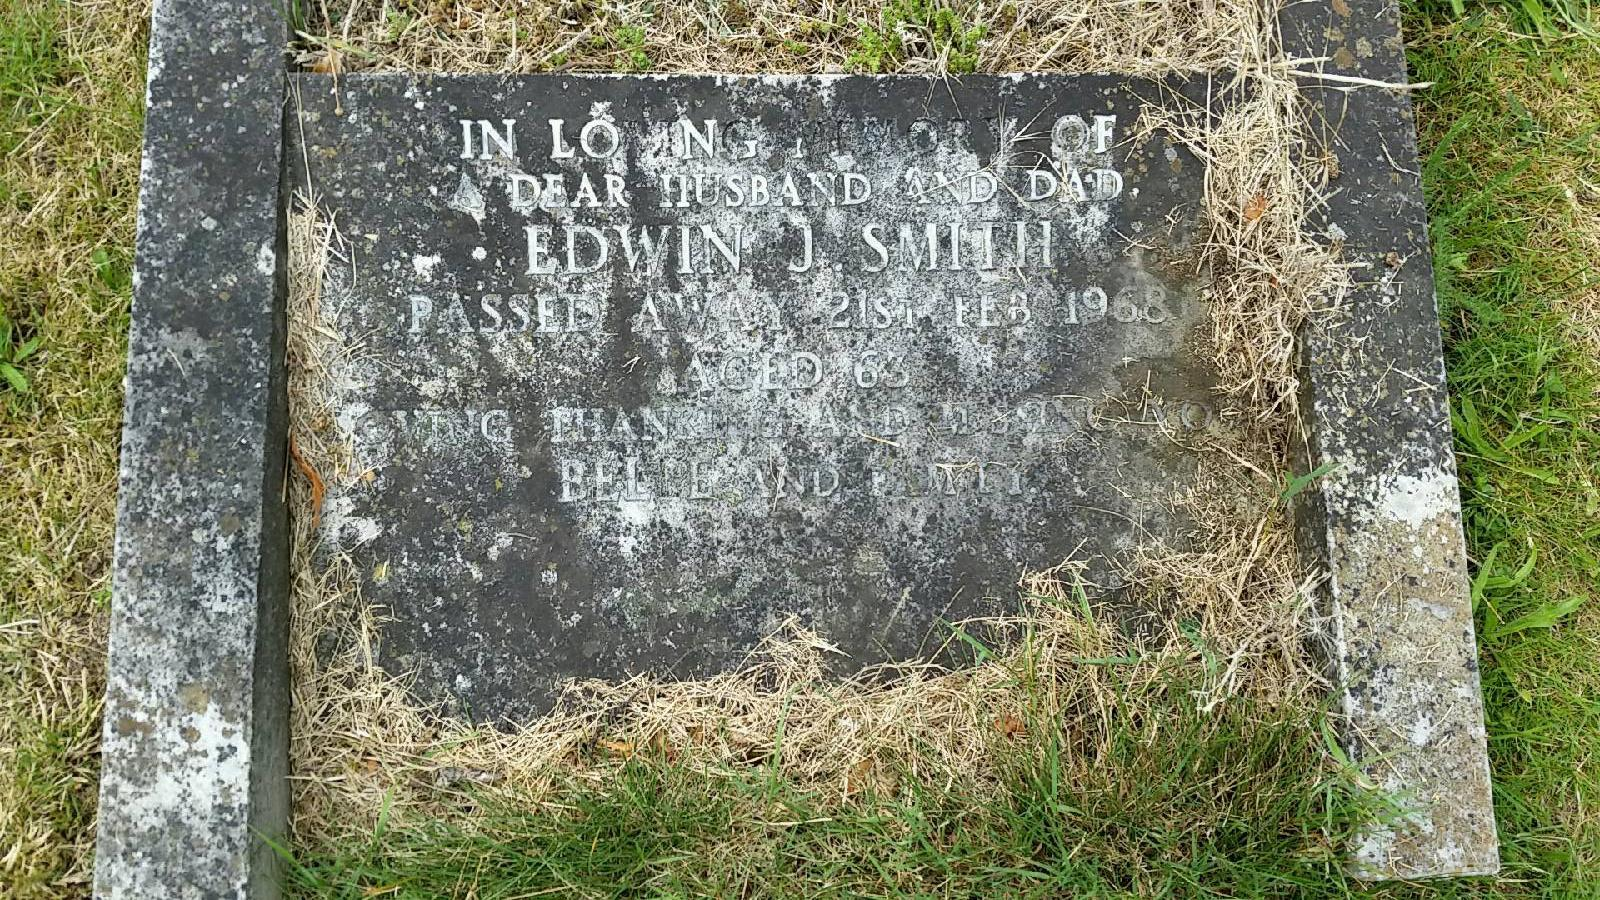flat: (276, 58, 1335, 749)
